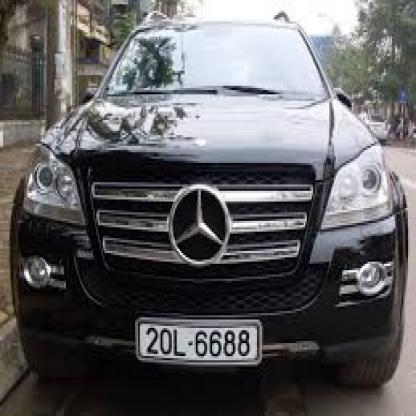biensoxe: (136, 318, 261, 367)
